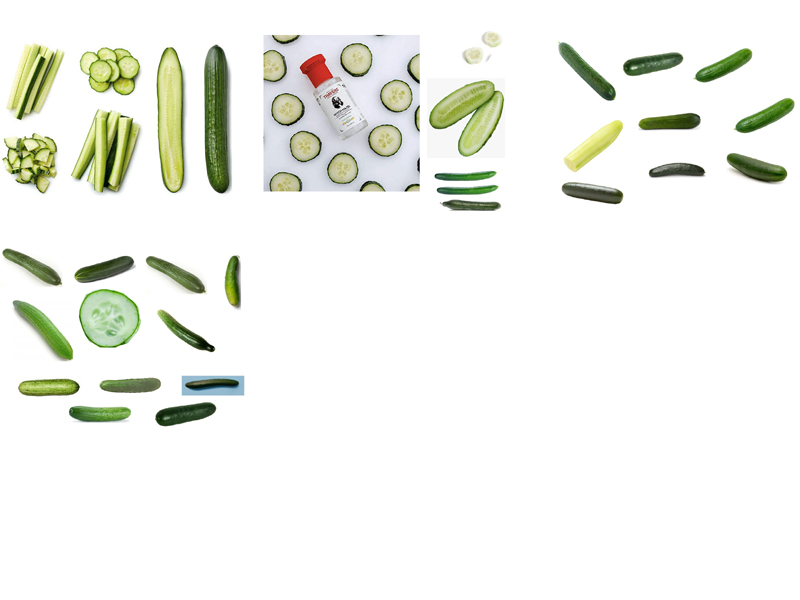cucumber: (192, 39, 238, 194), (71, 107, 147, 195), (151, 44, 187, 196), (5, 37, 67, 122), (7, 294, 79, 367), (551, 34, 620, 105), (559, 104, 627, 171), (77, 284, 141, 351), (149, 301, 219, 355), (71, 46, 141, 98), (1, 132, 59, 193), (142, 247, 209, 299), (1, 241, 62, 292), (622, 39, 687, 82), (561, 173, 629, 213), (695, 44, 757, 87), (67, 247, 140, 283), (722, 149, 793, 186), (7, 369, 85, 401), (733, 96, 793, 137), (147, 396, 221, 429), (217, 245, 251, 314), (647, 148, 706, 187), (55, 403, 139, 427), (337, 37, 384, 78), (97, 369, 165, 396), (635, 110, 704, 135), (268, 89, 306, 128), (435, 196, 510, 215), (379, 74, 413, 113), (325, 150, 363, 184), (285, 128, 321, 163), (369, 120, 404, 155), (460, 44, 488, 64), (482, 24, 499, 46)
